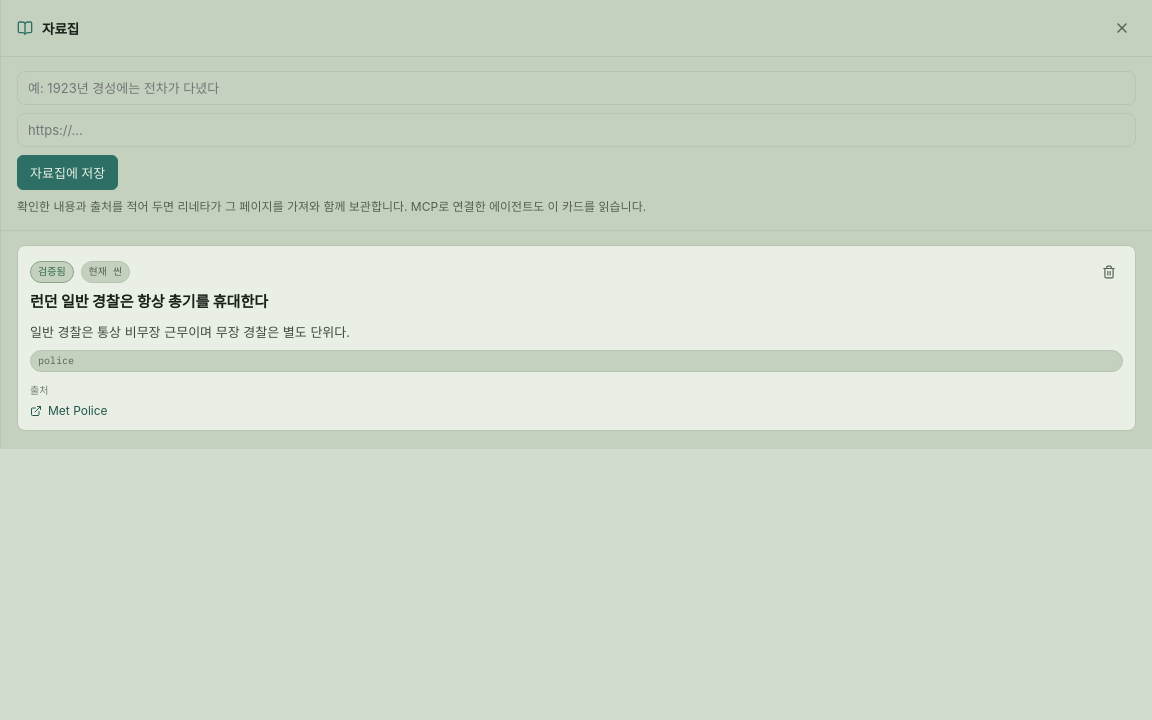
it: FactBookPanel › refuses to save a claim with no source
Expected: the heading "런던 일반 경찰은 항상 총기를 휴대한다" is shown, [30,296,268,311]
In the field named "확인할 내용": (576, 88) [17,71,1136,105], type "출처 없는 주장"
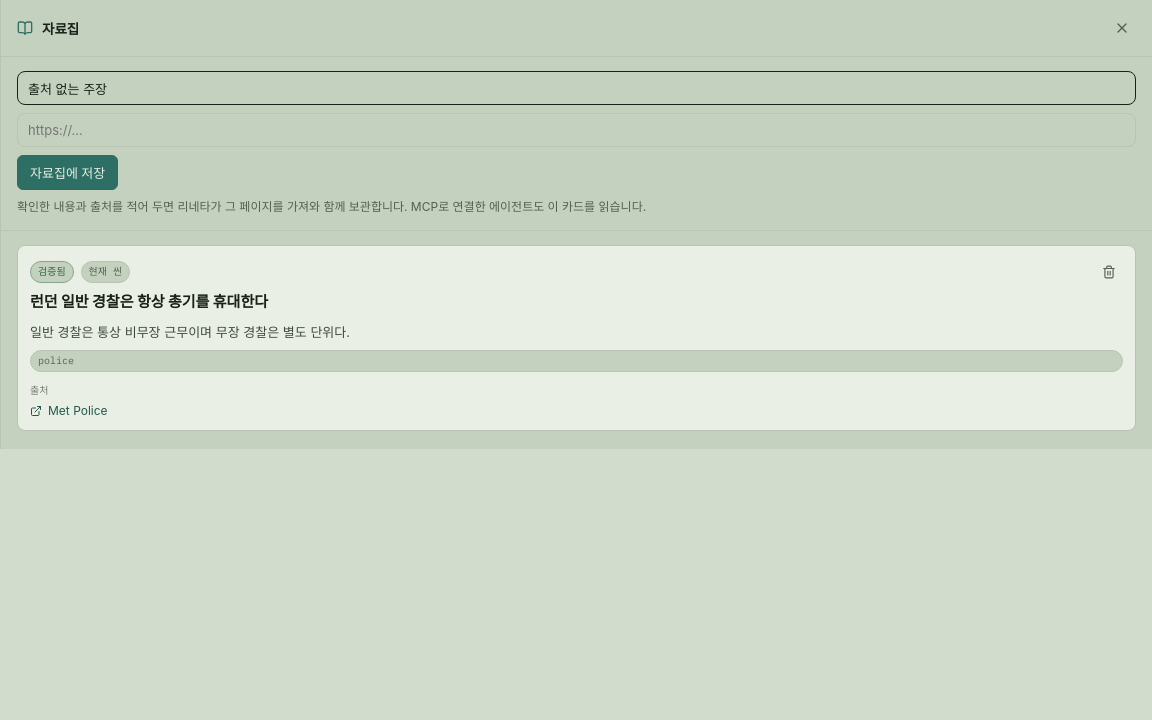
Click the button "자료집에 저장": click(68, 172) [17,155,118,190]
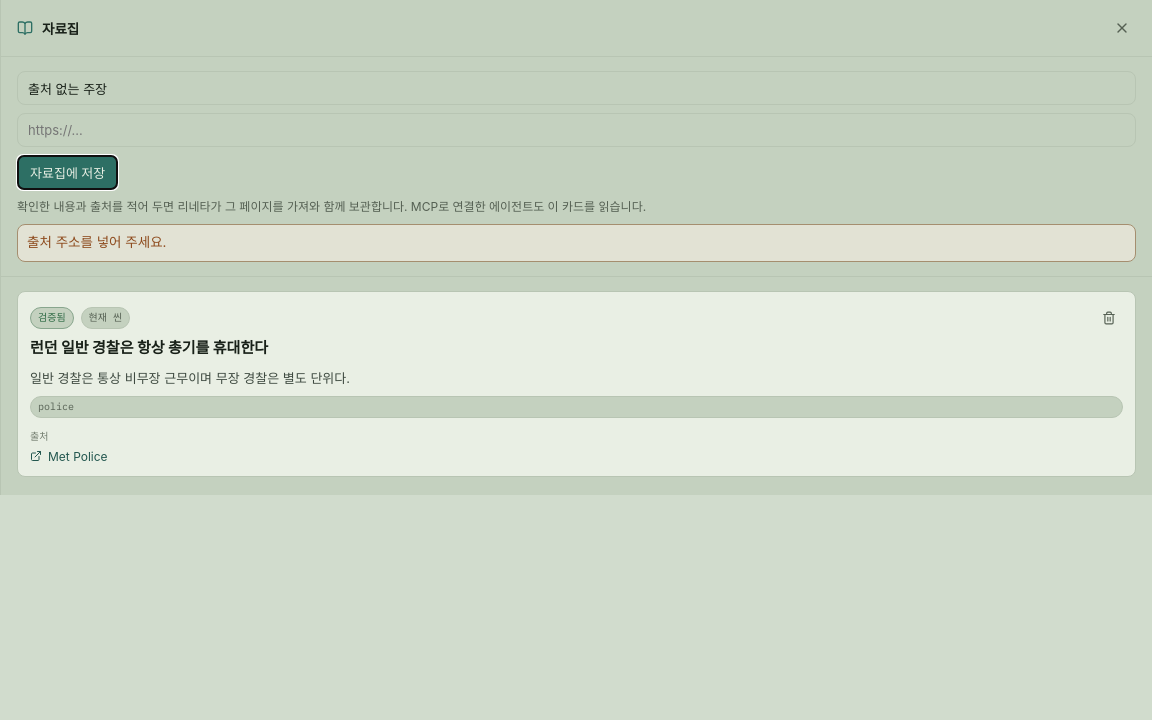
Now the text "출처 주소를 넣어 주세요." is shown, box [17,224,1136,262]
